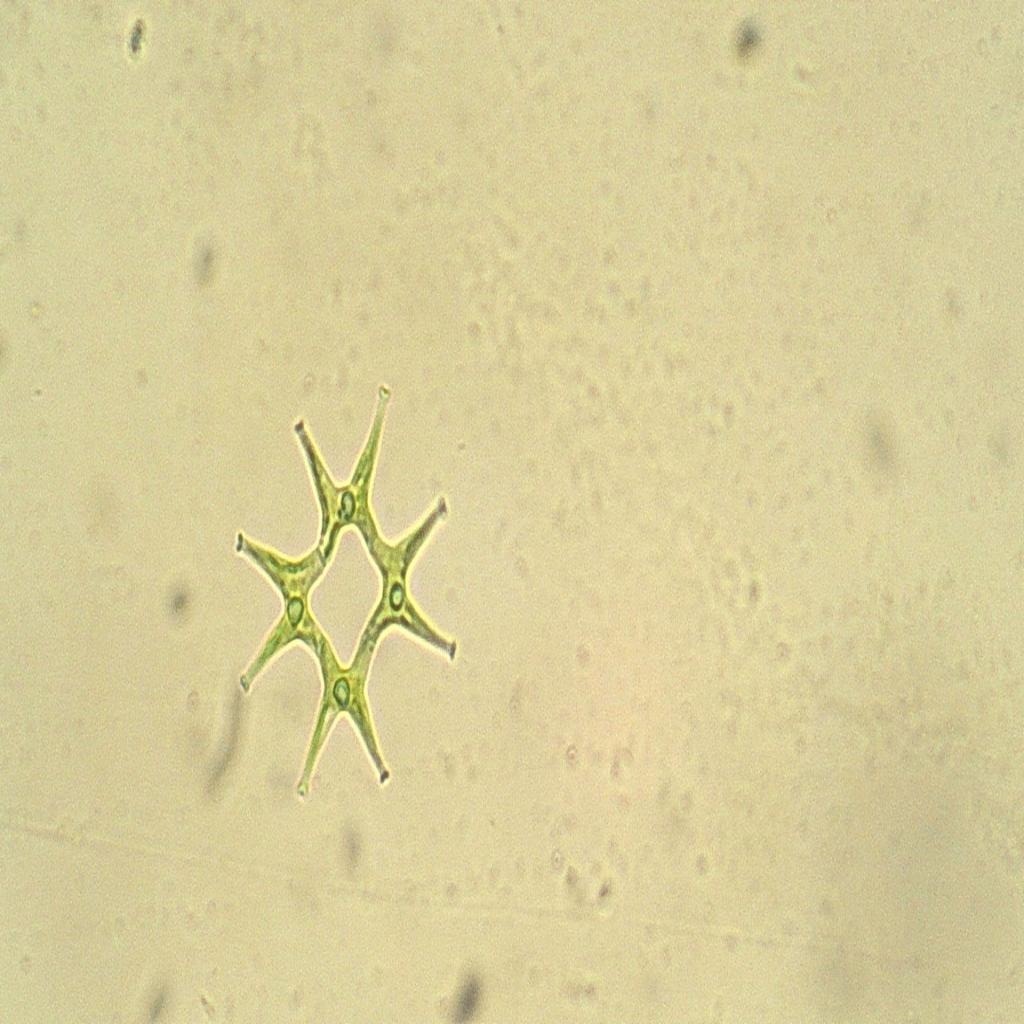Pediastrum_10: (213, 371, 466, 809)
